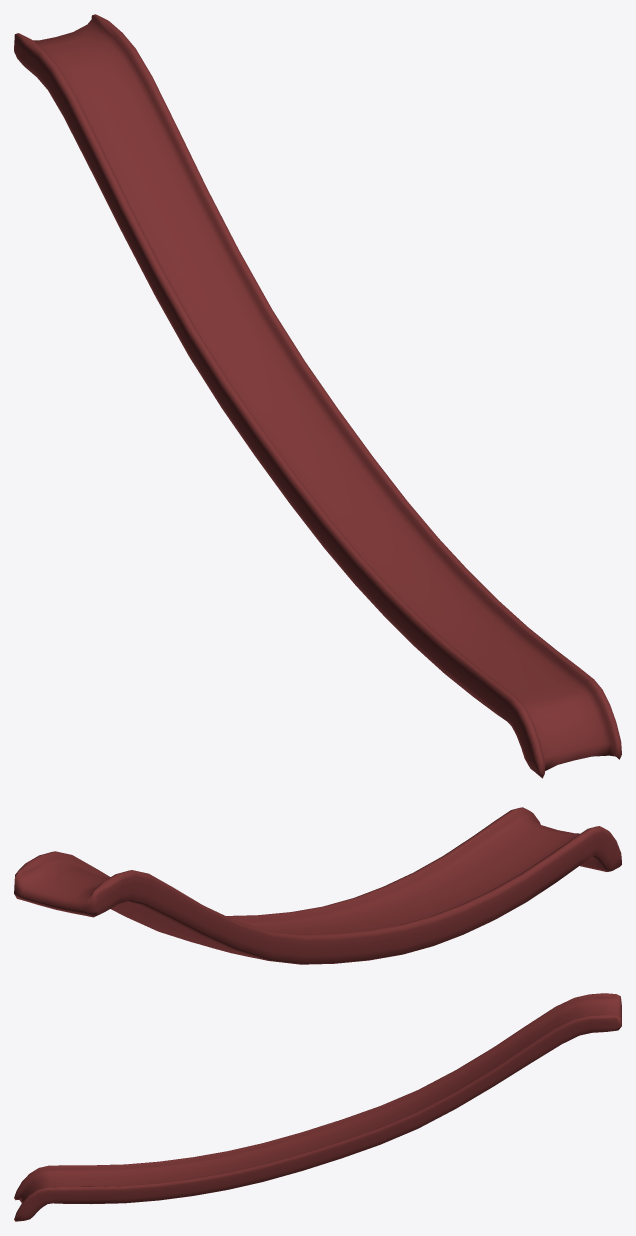
The model's file is Tobogan.fbx.
3 views of the same model, one above another, from view 1: azimuth 30°, elevation 25°; view 2: azimuth 150°, elevation 25°; view 3: azimuth 270°, elevation 25° (orthographic). The views are drawn at different scales.
Visible parts, largest first — view 1: tobogan; view 2: tobogan; view 3: tobogan.
Part boxes in pixels (left/top/right/bottom): tobogan: left=14, top=14, right=621, bottom=778; tobogan: left=14, top=807, right=621, bottom=964; tobogan: left=14, top=993, right=621, bottom=1221.
Bounding box in the file's own units: 1.01 × 4.04 × 10.74.
